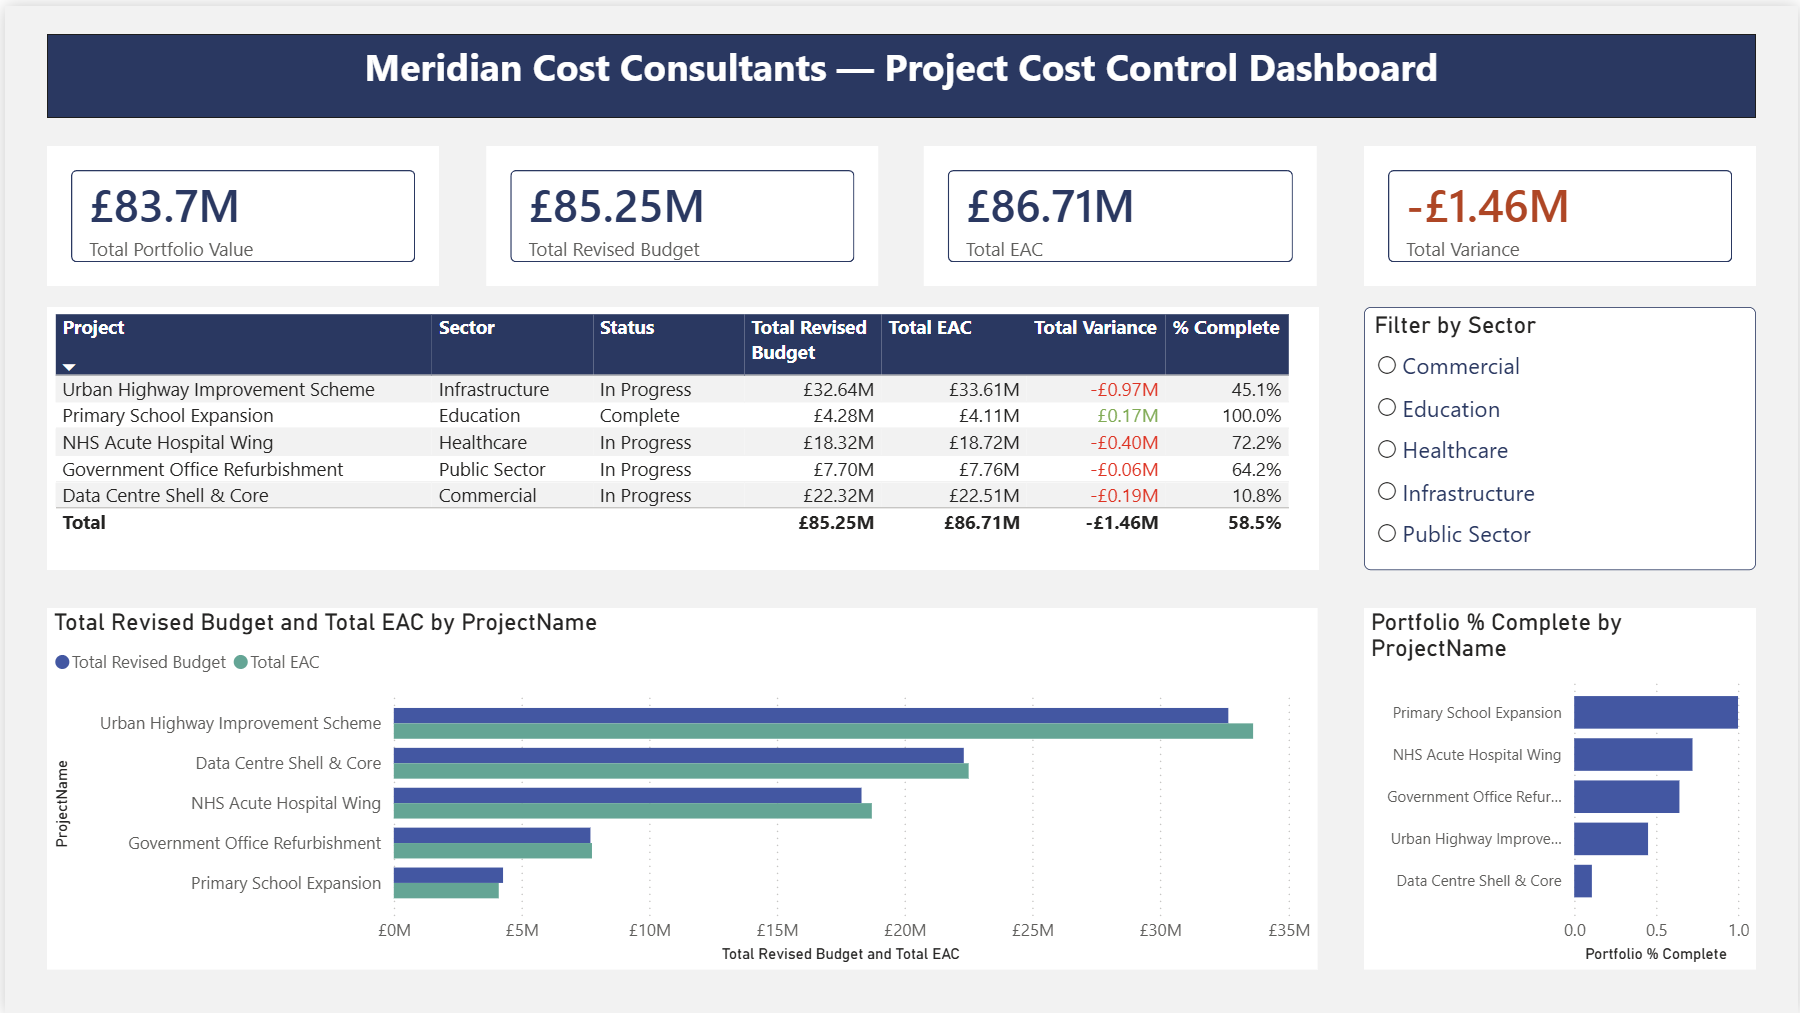

What the dashboard file says about the page in this screenshot:
{"tool":"powerbi","page":{"name":"Portfolio Overview","canvas":[1280,720],"ordinal":0},"visuals":[{"type":"textbox","box":[30,20,1220,60],"z":0},{"type":"cardVisual","fields":{"Data":["_Measure.Total Portfolio Value"]},"box":[30,100,280,100],"z":1000},{"type":"cardVisual","fields":{"Data":["_Measure.Total Revised Budget"]},"box":[343.3,100,280,100],"z":2000},{"type":"cardVisual","fields":{"Data":["_Measure.Total EAC"]},"box":[656.7,100,280,100],"z":3000},{"type":"cardVisual","fields":{"Data":["_Measure.Total Variance"]},"box":[970,100,280,100],"z":4000},{"type":"tableEx","fields":{"Values":["vw_PortfolioSummary.ProjectName","vw_PortfolioSummary.Sector","vw_PortfolioSummary.Status","_Measure.Total Revised Budget","_Measure.Total EAC","_Measure.Total Variance","_Measure.Portfolio % Complete"]},"box":[30,215,907,163],"z":5000},{"type":"listSlicer","title":"Filter by Sector","fields":{"Values":["vw_PortfolioSummary.Sector"]},"box":[970,215,280,188],"z":5001},{"type":"clusteredBarChart","fields":{"Category":["vw_PortfolioSummary.ProjectName"],"Y":["_Measure.Total Revised Budget","_Measure.Total EAC"]},"box":[30,462,907,258],"z":5002},{"type":"clusteredBarChart","fields":{"Category":["vw_PortfolioSummary.ProjectName"],"Y":["_Measure.Portfolio % Complete"]},"box":[970,462,280,258],"z":5003}]}

Visuals, with their boxes in screenshot pixels (x1, y1, x2, y2), scaled from the page's 1280x720 canvas onto the 1800x1013 screenshot:
textbox: Rect(42, 28, 1758, 113)
cardVisual - _Measure.Total Portfolio Value: Rect(42, 141, 436, 281)
cardVisual - _Measure.Total Revised Budget: Rect(483, 141, 877, 281)
cardVisual - _Measure.Total EAC: Rect(923, 141, 1317, 281)
cardVisual - _Measure.Total Variance: Rect(1364, 141, 1758, 281)
tableEx - vw_PortfolioSummary.ProjectName x vw_PortfolioSummary.Sector: Rect(42, 302, 1318, 532)
"Filter by Sector" listSlicer: Rect(1364, 302, 1758, 567)
clusteredBarChart - vw_PortfolioSummary.ProjectName x _Measure.Total Revised Budget: Rect(42, 650, 1318, 1012)
clusteredBarChart - vw_PortfolioSummary.ProjectName x _Measure.Portfolio % Complete: Rect(1364, 650, 1758, 1012)
